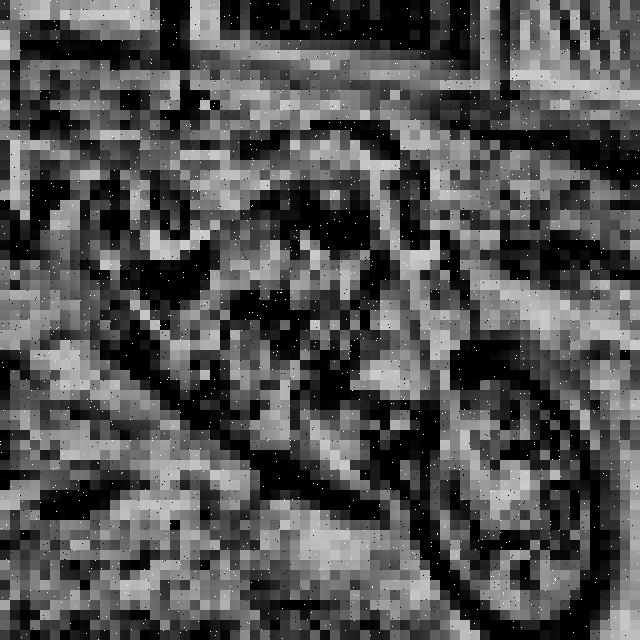mopeds: (57, 97, 639, 640)
